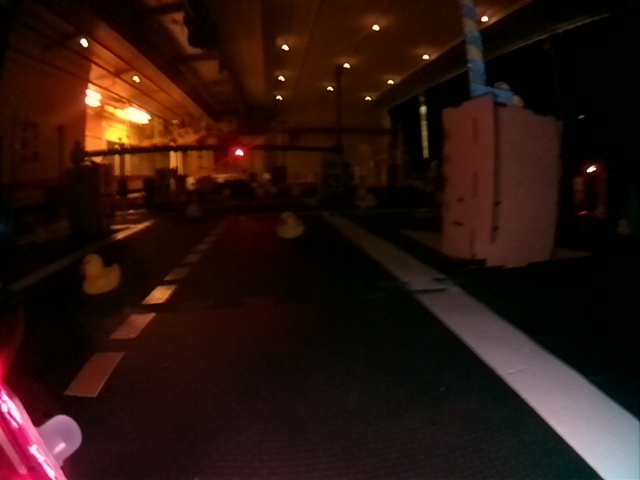Duckie: (81, 257, 120, 293), (275, 212, 304, 237)
Traffic light: (234, 149, 244, 157)
